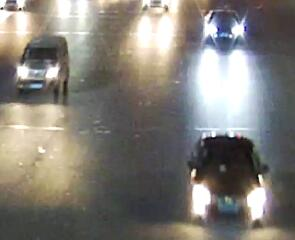car: (186, 131, 270, 222), (12, 34, 70, 94), (201, 7, 246, 48), (138, 0, 171, 11), (1, 0, 26, 11)
